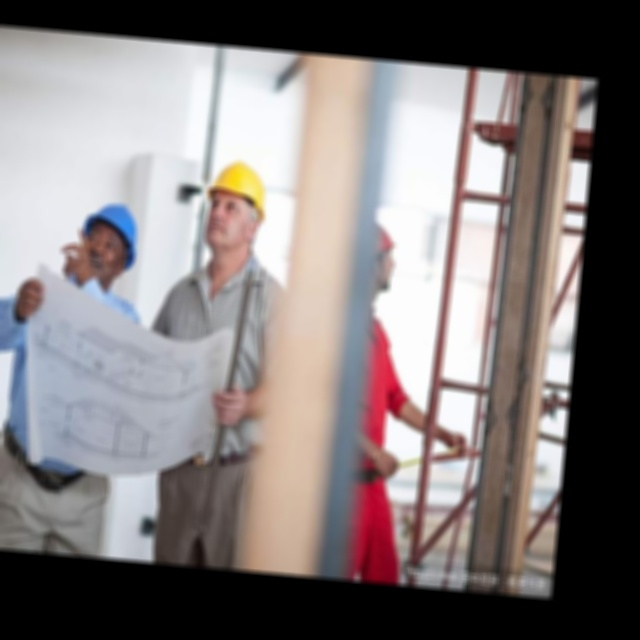Con_Casco: (195, 158, 269, 263), (82, 198, 140, 276)
